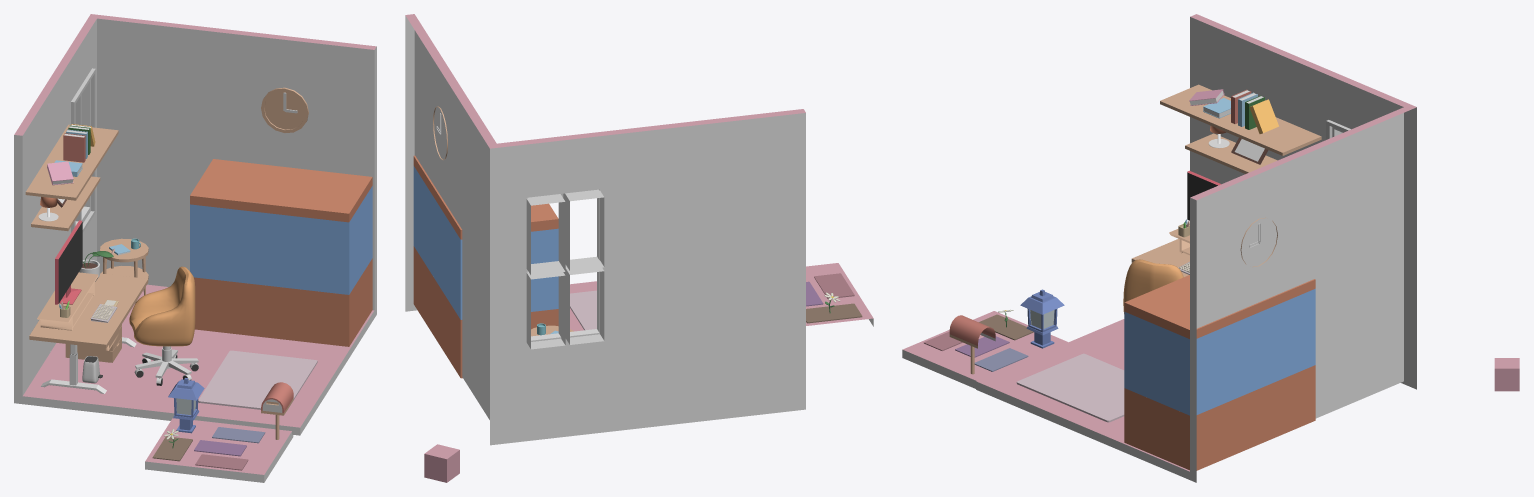
The model's file is room finale.glb.
3 views of the same model, side by side, from view 1: azimuth 30°, elevation 25°; view 2: azimuth 150°, elevation 25°; view 3: azimuth 270°, elevation 25° (orthographic). The views are drawn at different scales.
Parts seen in each view (by area): view 1: Body, Aquarium, Floor Items, Desk, Shelves, Mini Floor, Chair, Table Stuff, Clock, Computer, Lamp, Mailbox (+4 smaller); view 2: Body, Aquarium, Mini Floor, Cube.143, Floor Items, Dirt, FloorThird; view 3: Body, Aquarium, Shelves, Floor Items, Mini Floor, Chair, Lamp, Mailbox, Cube.143, Desk, Dirt, FloorFirst.
Part boxes in pixels (x1,y1,x2,y2): Body: [14, 14, 376, 435]; Aquarium: [190, 159, 372, 346]; Floor Items: [65, 324, 317, 409]; Desk: [29, 238, 148, 393]; Shelves: [25, 124, 118, 231]; Mini Floor: [145, 418, 293, 482]; Chair: [129, 266, 195, 346]; Table Stuff: [37, 238, 140, 330]; Clock: [261, 87, 308, 132]; Computer: [55, 220, 82, 304]; Lamp: [168, 377, 204, 433]; Mailbox: [261, 382, 293, 439]; Body: [405, 14, 805, 445]; Aquarium: [413, 155, 558, 378]; Mini Floor: [806, 263, 873, 326]; Cube.143: [424, 444, 459, 482]; Floor Items: [570, 290, 596, 330]; Dirt: [806, 303, 862, 323]; FloorThird: [814, 273, 854, 298]; Body: [976, 14, 1416, 482]; Aquarium: [1124, 275, 1315, 470]; Shelves: [1160, 84, 1321, 173]; Floor Items: [1016, 353, 1124, 422]; Mini Floor: [902, 311, 1068, 388]; Chair: [1123, 259, 1183, 313]; Lamp: [1020, 289, 1064, 348]; Mailbox: [949, 315, 995, 374]; Cube.143: [1494, 358, 1519, 391]; Desk: [1131, 239, 1189, 276]; Dirt: [979, 314, 1033, 340]; FloorFirst: [974, 348, 1028, 371].
Size of the model in its own units: 35.43 by 25.47 by 49.58.
